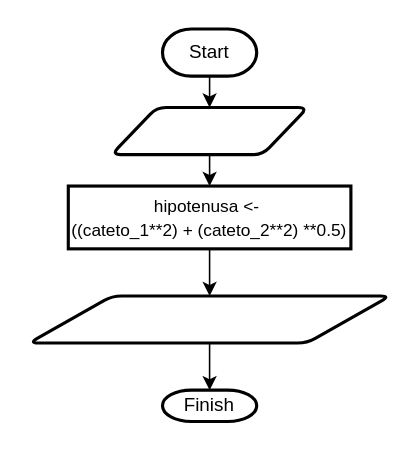
Some shapes in this 418 by 449 pixel diagram are drawn without their labels. The box of each missing label's shape, as (x1, y1, x2, y2) in pixels:
Print "La medida de la hipotenusa es: 'hipotenusa' ": (27, 294, 391, 344)
Read cateto_1 Read cateto_2: (109, 105, 309, 155)
